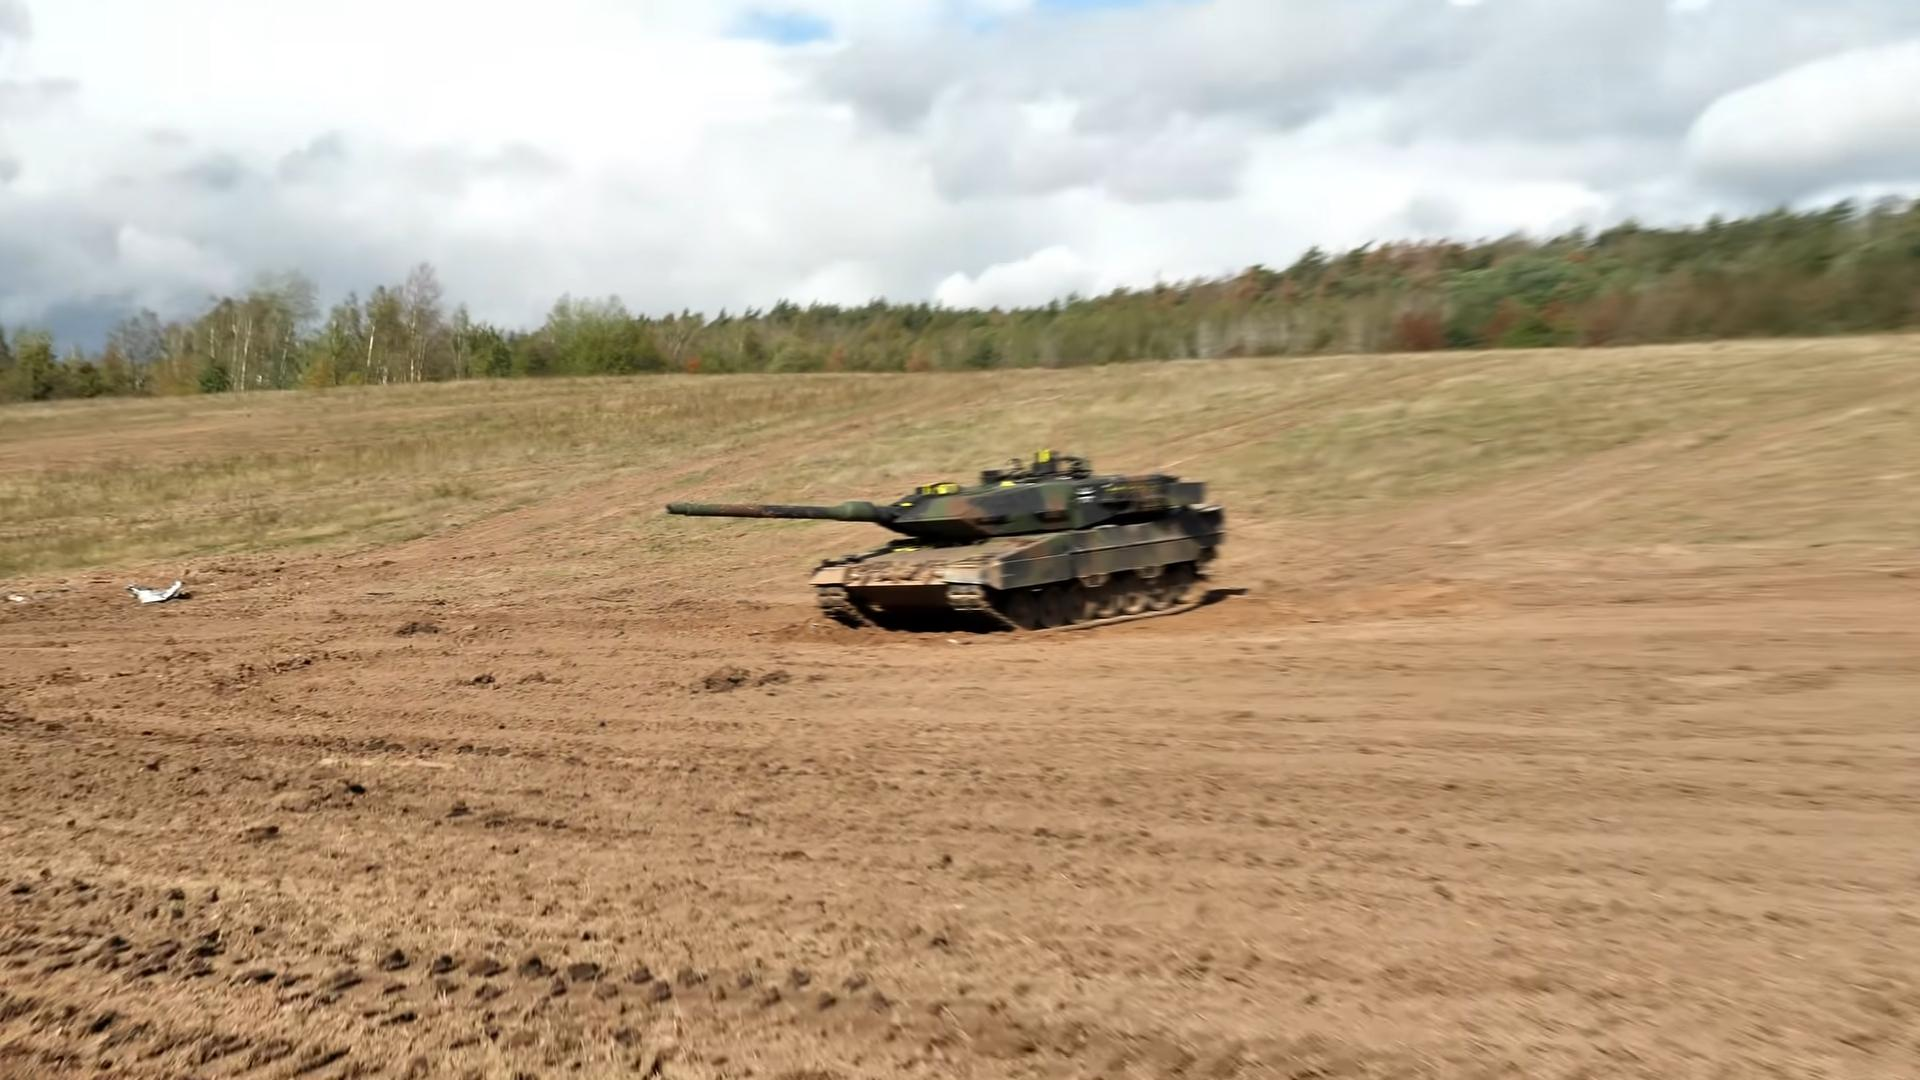tank: (666, 451, 1224, 630)
